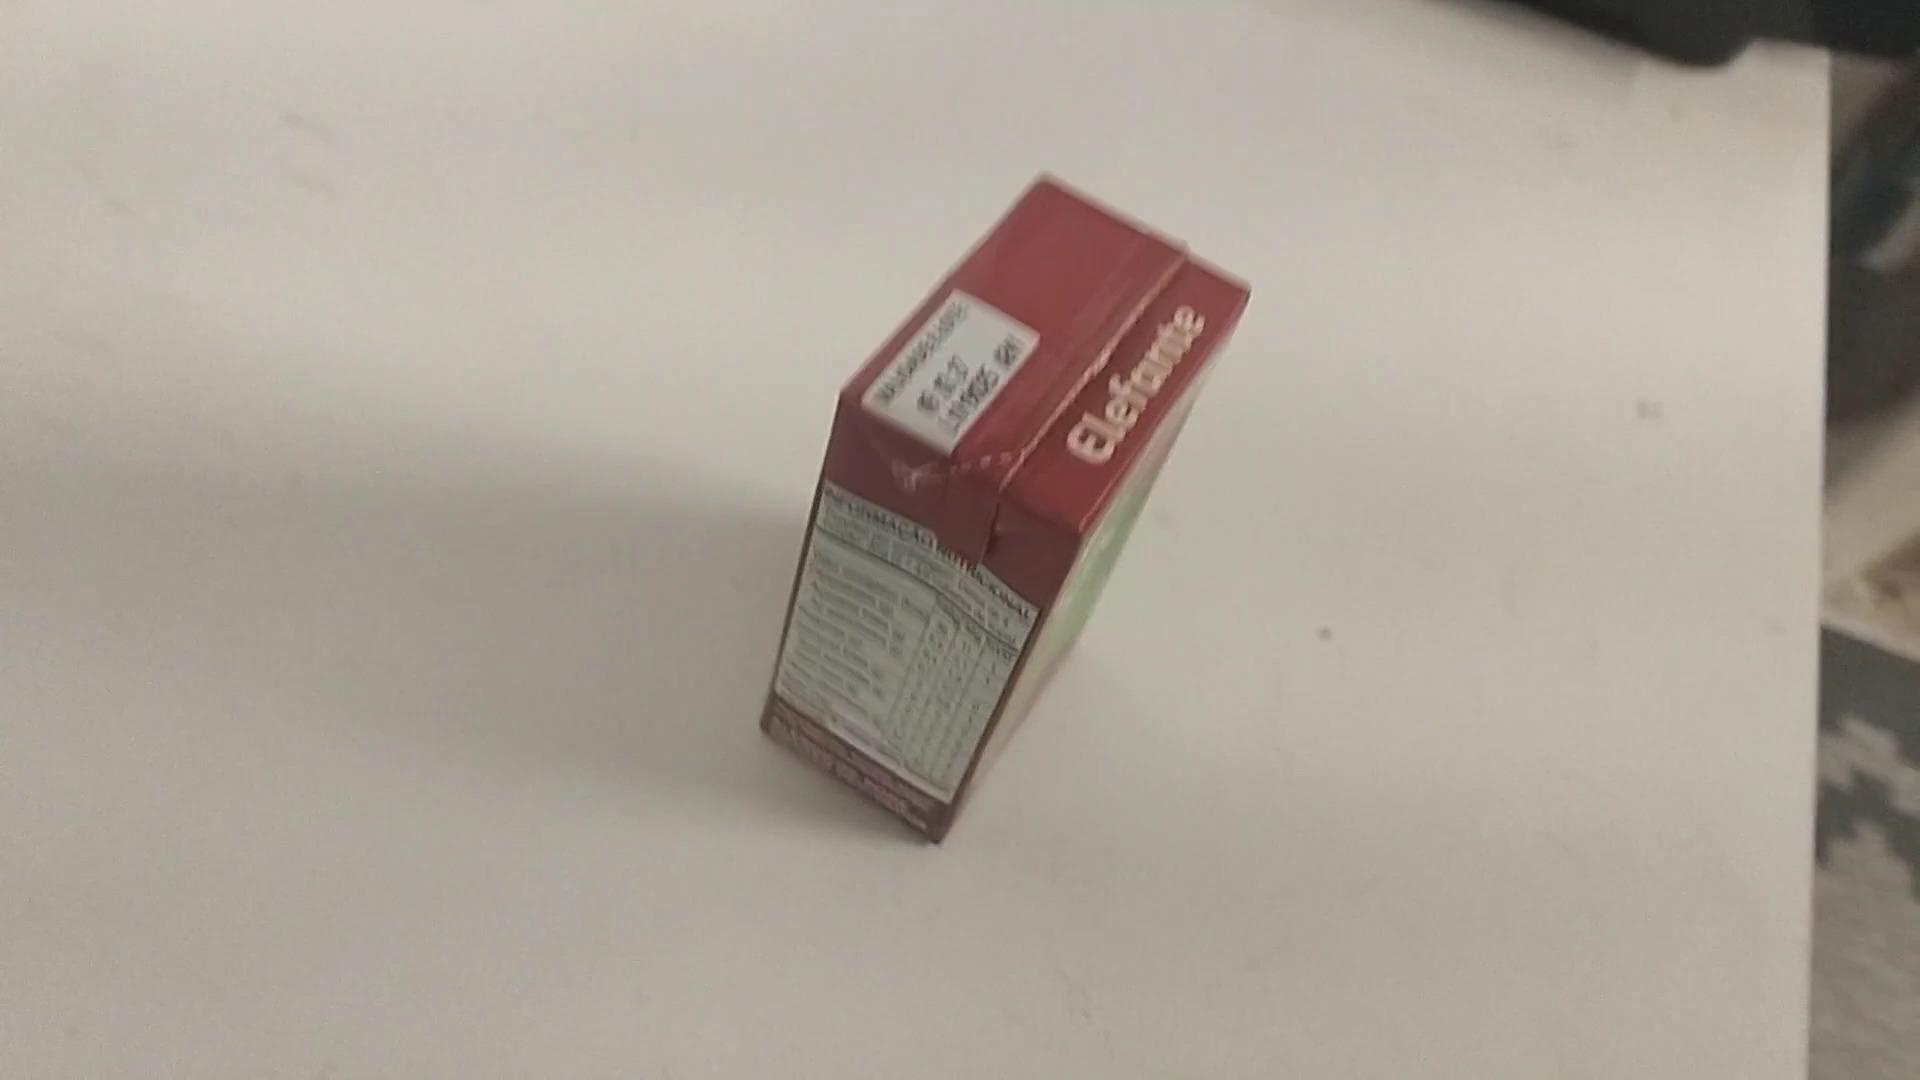tomate: (746, 157, 1275, 852)
